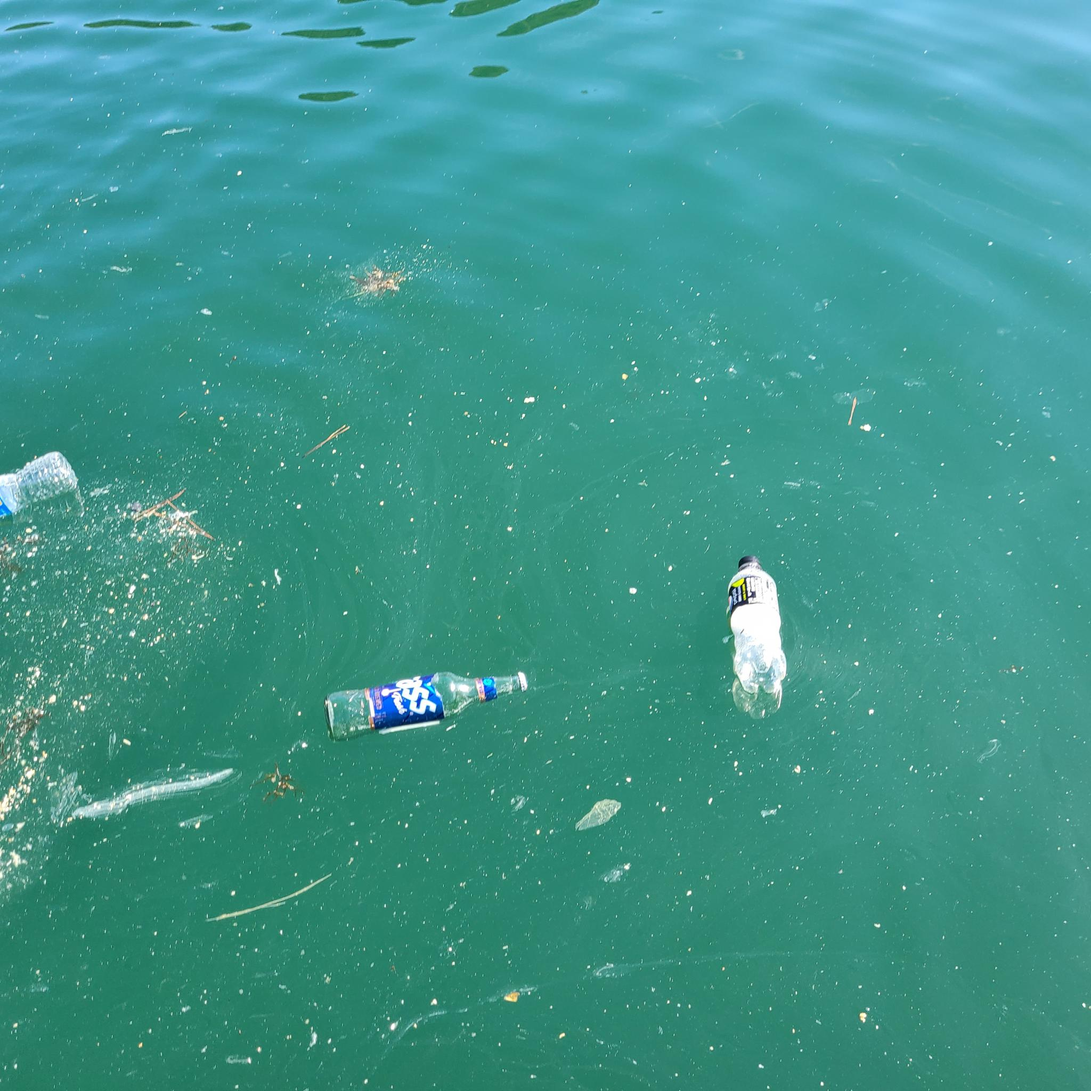sampah_terapung: (325, 672, 528, 740), (728, 556, 786, 695), (1, 453, 78, 520)
